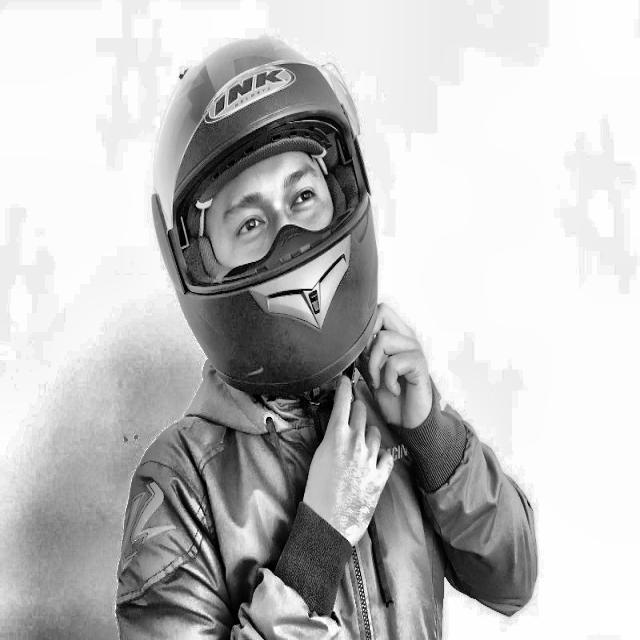Helmet: (142, 24, 399, 401)
